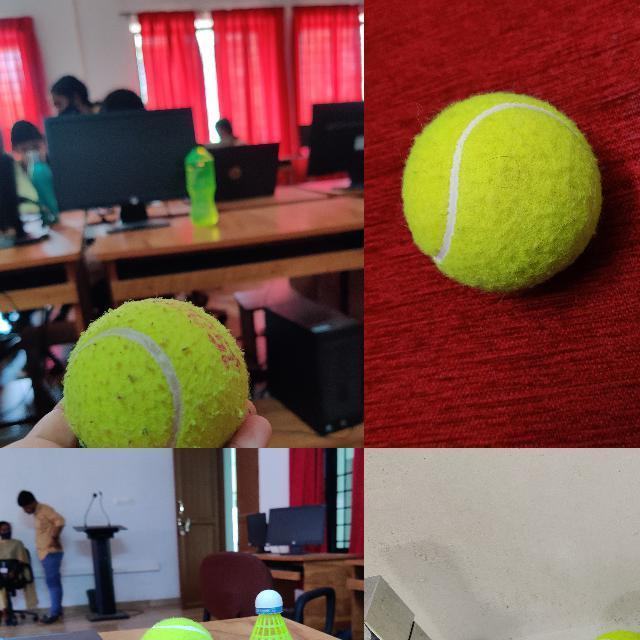tennis-ball: (401, 92, 601, 292), (63, 298, 250, 447), (135, 617, 217, 639)
